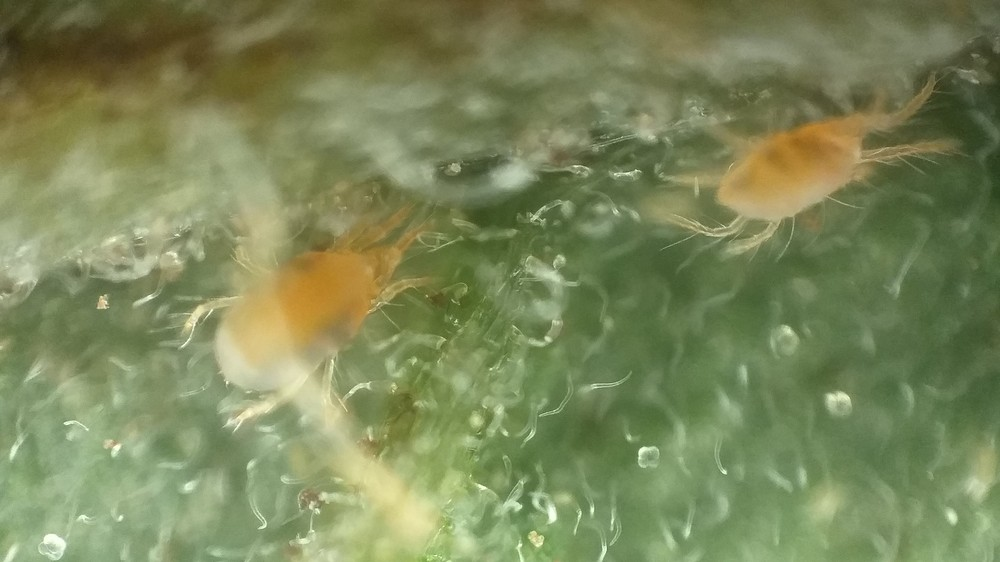Aracnido Rojo: (654, 65, 966, 272), (166, 188, 453, 413)
